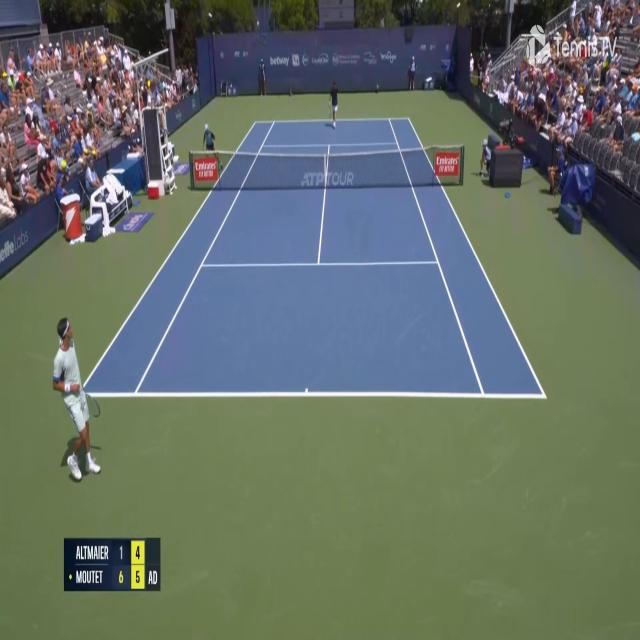tennis-player: (49, 313, 114, 486), (326, 78, 340, 130)
